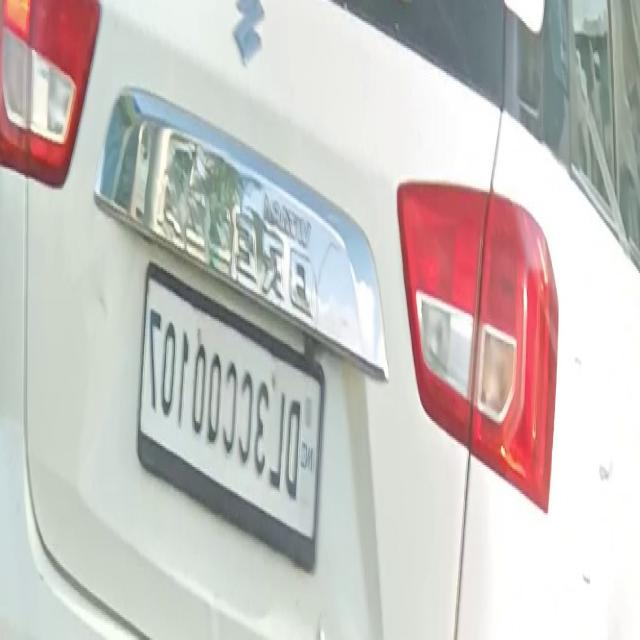license_plate: (136, 256, 328, 586)
